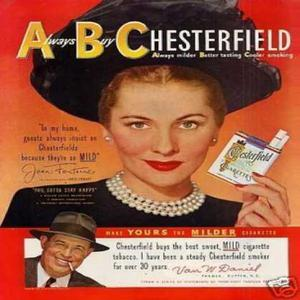cigarette: (66, 261, 76, 273)
